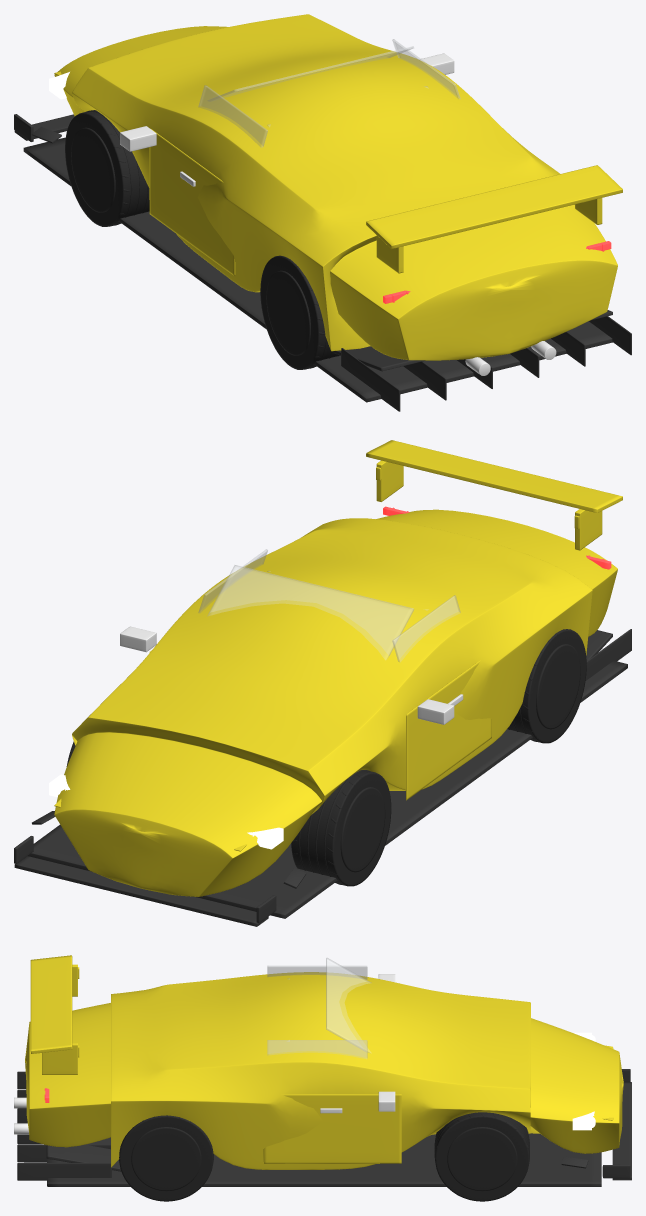
File: Car_Porsche_911_GT2_993_1990s_Complete.glb
The picture shows the model from 3 angles, top to bottom: view 1: azimuth 30°, elevation 25°; view 2: azimuth 150°, elevation 25°; view 3: azimuth 270°, elevation 25°; orthographic projection. The views are drawn at different scales.
Parts seen in each view (by area): view 1: BODY_MainShell, UNDERBODY_FlatFloor, AERO_GT2_BiplaneWingWithScoops, WHEEL_FL_Tire, BODY_Door_FL, WHEEL_RL_Tire, GLASS_Greenhouse, JEWELRY_Hardware, AERO_FrontSplitter, JEWELRY_GT2_TwinExhaust; view 2: BODY_MainShell, UNDERBODY_FlatFloor, GLASS_Greenhouse, WHEEL_FL_Tire, AERO_GT2_BiplaneWingWithScoops, WHEEL_RL_Tire, BODY_Door_FL, AERO_FrontSplitter, JEWELRY_Hardware, LIGHTING_Headlamps; view 3: BODY_MainShell, UNDERBODY_FlatFloor, BODY_Door_FR, WHEEL_FR_Tire, WHEEL_RR_Tire, AERO_GT2_BiplaneWingWithScoops, GLASS_Greenhouse, AERO_FrontSplitter, JEWELRY_Hardware, LIGHTING_Headlamps.
Part boxes in pixels (bbox=[...]): BODY_MainShell: bbox=[54, 14, 617, 360]; UNDERBODY_FlatFloor: bbox=[23, 137, 631, 411]; AERO_GT2_BiplaneWingWithScoops: bbox=[366, 165, 622, 273]; WHEEL_FL_Tire: bbox=[65, 110, 149, 226]; BODY_Door_FL: bbox=[149, 128, 235, 276]; WHEEL_RL_Tire: bbox=[260, 255, 339, 369]; GLASS_Greenhouse: bbox=[198, 39, 460, 147]; JEWELRY_Hardware: bbox=[120, 53, 454, 186]; AERO_FrontSplitter: bbox=[14, 114, 74, 141]; JEWELRY_GT2_TwinExhaust: bbox=[465, 341, 556, 375]; BODY_MainShell: bbox=[54, 509, 617, 896]; UNDERBODY_FlatFloor: bbox=[28, 629, 631, 918]; GLASS_Greenhouse: bbox=[198, 549, 460, 661]; WHEEL_FL_Tire: bbox=[291, 770, 391, 886]; AERO_GT2_BiplaneWingWithScoops: bbox=[366, 440, 622, 550]; WHEEL_RL_Tire: bbox=[507, 629, 586, 743]; BODY_Door_FL: bbox=[406, 660, 491, 800]; AERO_FrontSplitter: bbox=[14, 836, 276, 926]; JEWELRY_Hardware: bbox=[120, 626, 463, 724]; LIGHTING_Headlamps: bbox=[49, 774, 283, 849]; BODY_MainShell: bbox=[25, 972, 623, 1169]; UNDERBODY_FlatFloor: bbox=[17, 1071, 601, 1186]; BODY_Door_FR: bbox=[263, 1094, 401, 1163]; WHEEL_FR_Tire: bbox=[434, 1112, 529, 1201]; WHEEL_RR_Tire: bbox=[119, 1115, 213, 1201]; AERO_GT2_BiplaneWingWithScoops: bbox=[30, 955, 79, 1074]; GLASS_Greenhouse: bbox=[267, 958, 371, 1058]; AERO_FrontSplitter: bbox=[602, 1069, 631, 1180]; JEWELRY_Hardware: bbox=[320, 974, 395, 1113]; LIGHTING_Headlamps: bbox=[572, 1032, 595, 1130].
Size of what is drawn, in the model's own units: 2.18 by 1.24 by 4.44.
